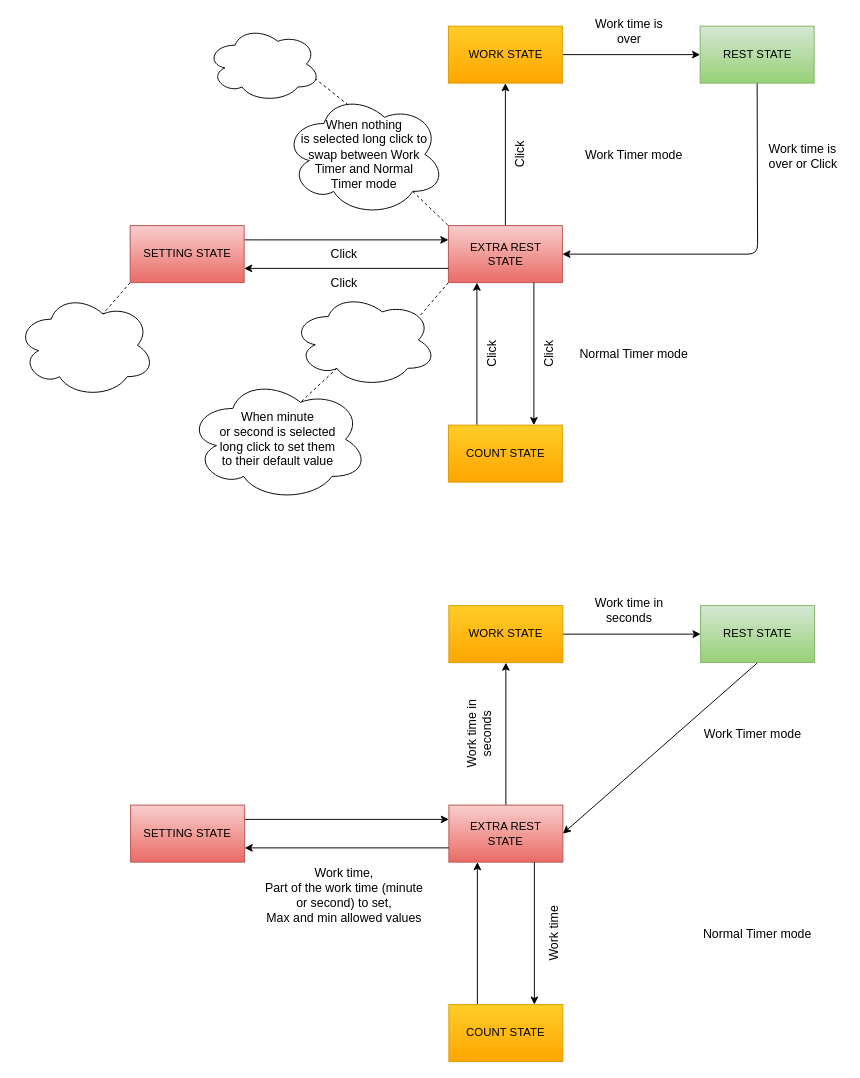
Some shapes in this 860 by 1078 pixel diagram are drawn without their labels. The shapes that lost their labels are listed below. From the top down, each one's centre as x and y in pixels, then its label:
At (x=263, y=63): "By default stays at Work Timer mode".
At (x=85, y=345): "Use Rotary Encoder to set selected minute or second".
At (x=364, y=339): "Use Rotary Encoder to select minute or second".
